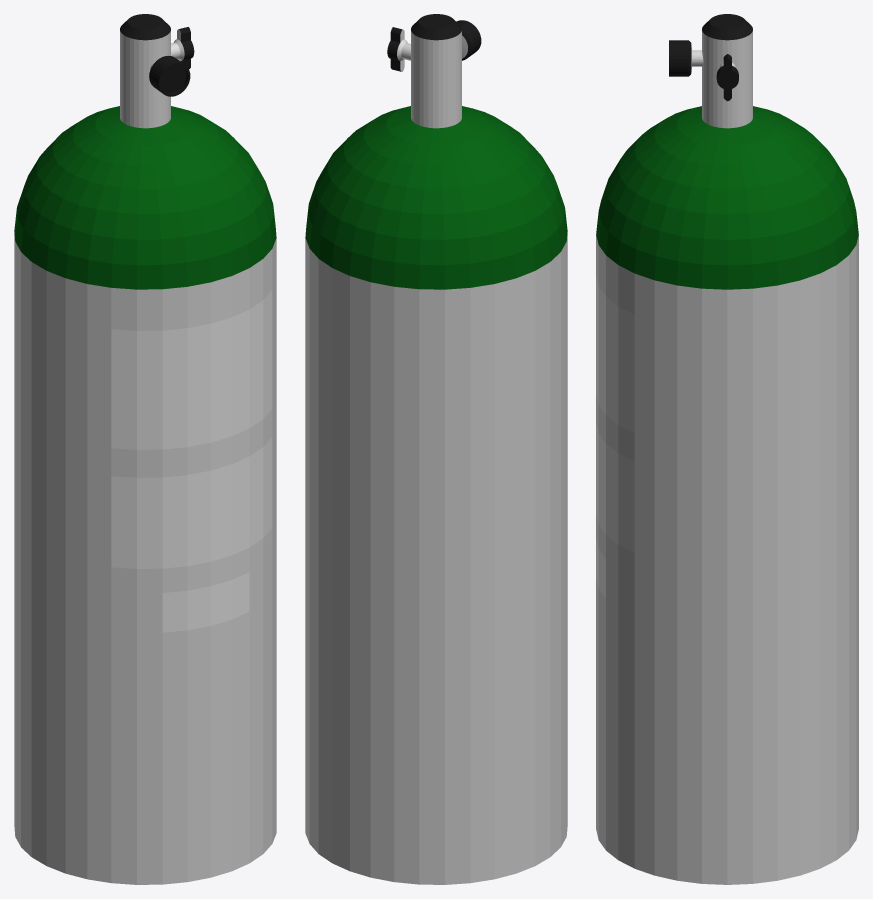
The model's file is O2Tank.fbx.
3 views of the same model, side by side, from view 1: azimuth 30°, elevation 25°; view 2: azimuth 150°, elevation 25°; view 3: azimuth 270°, elevation 25° (orthographic).
Parts seen in each view (by area): view 1: Sphere; view 2: Sphere; view 3: Sphere.
Part boxes in pixels (<box>): Sphere: <box>14,14,276,884</box>; Sphere: <box>305,14,567,884</box>; Sphere: <box>596,14,858,884</box>.
Size of the model in its own units: 200 by 679 by 200.
